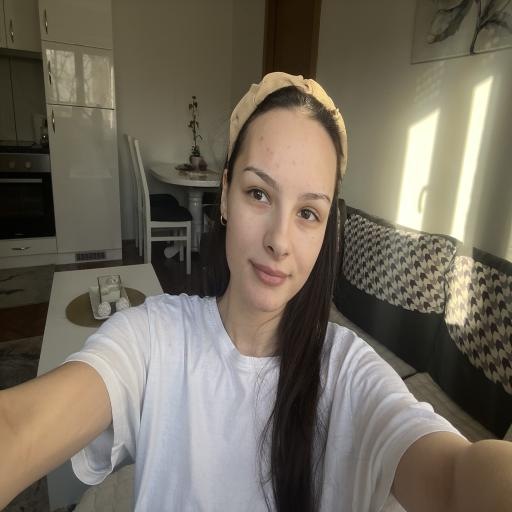marija: (224, 114, 336, 309)
